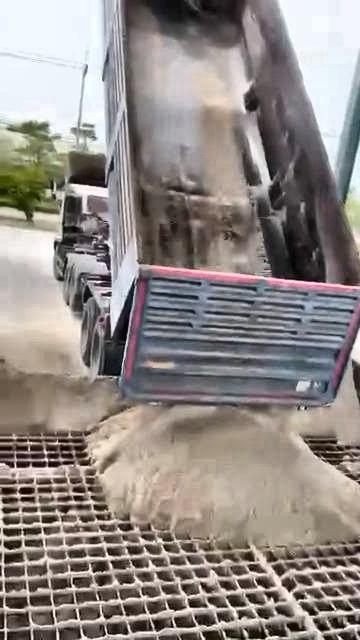sand: (89, 407, 360, 545), (1, 359, 126, 433), (254, 547, 322, 639), (290, 360, 360, 445)
